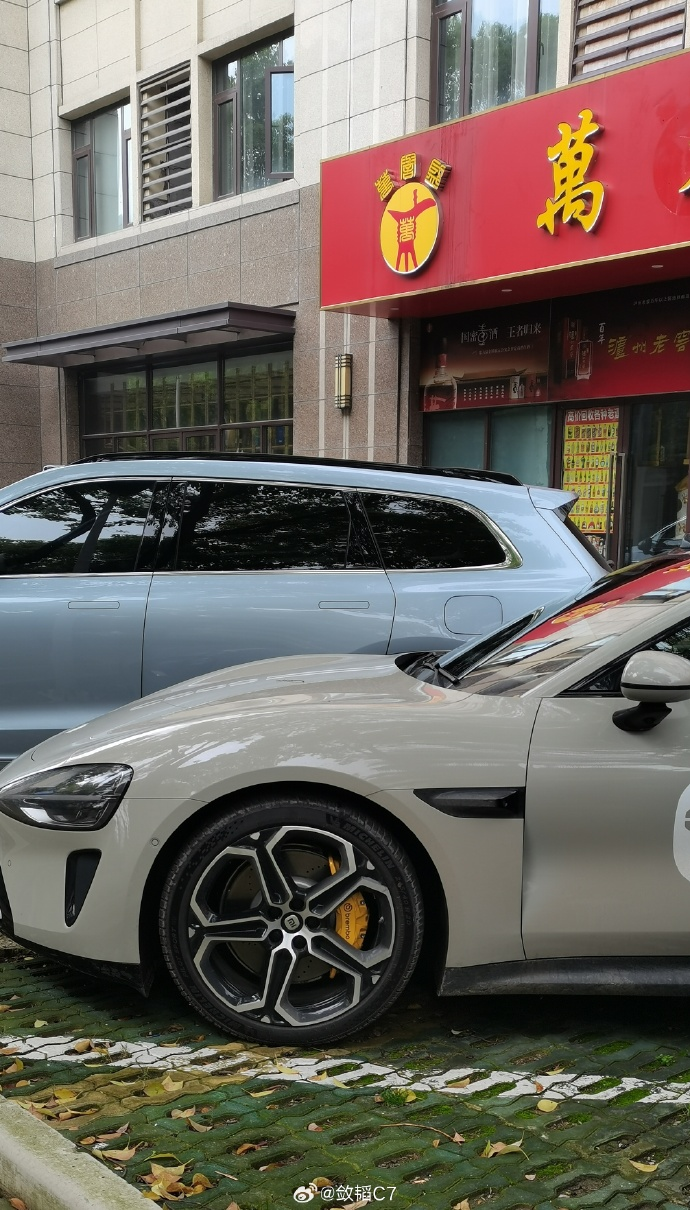su7: (11, 551, 690, 1059)
